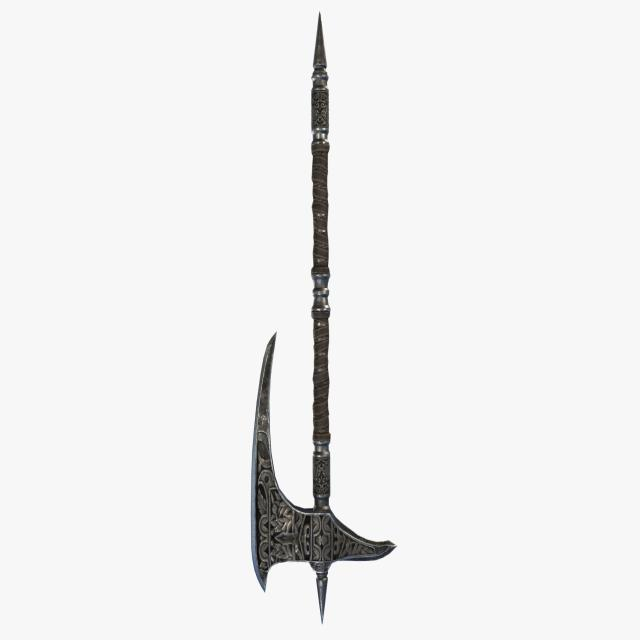Gun: (197, 27, 395, 640)
